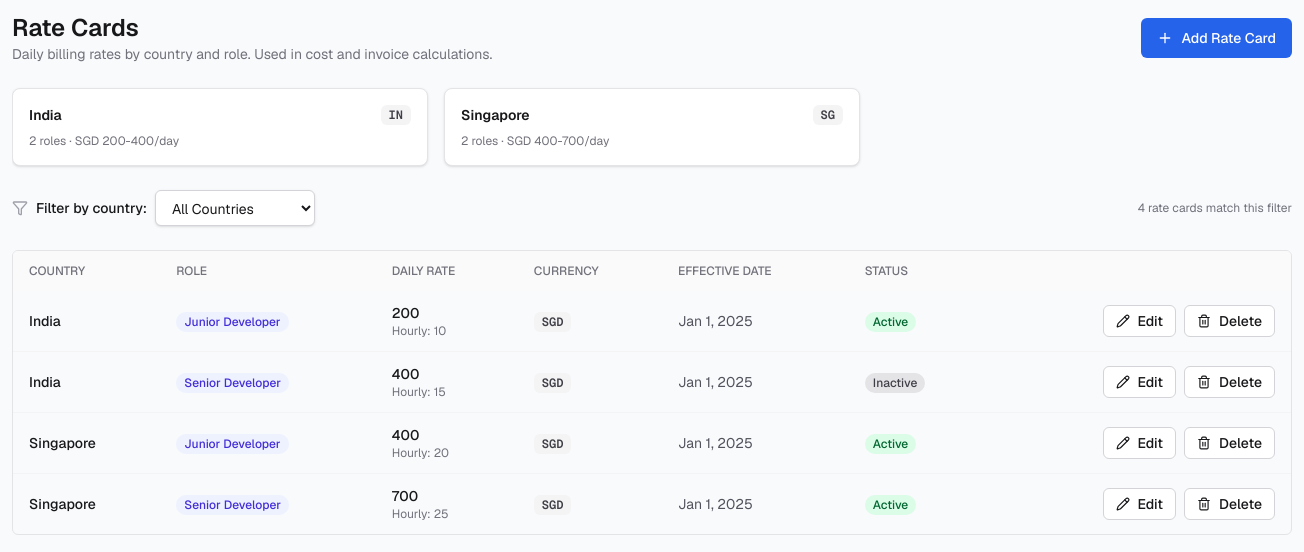
Test: RateCardsTable › filters the table to a single country when its summary card is clicked, and clears on a second click
This screenshot has width=1304, height=552.
Expected: the text "2 roles · SGD 400-700/day" is shown, top-left (461, 133), bottom-right (609, 149)
Click the button "Singapore SG 2 roles · SGD 400-700/day".
click(495, 115)  # box top-left (444, 88), bottom-right (860, 166)
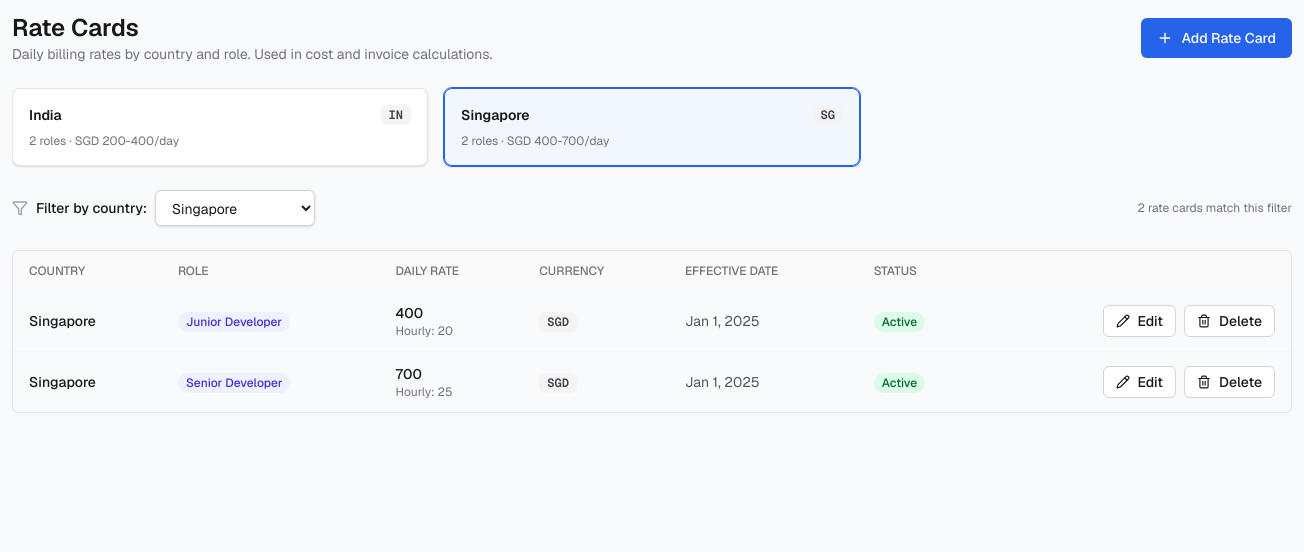
Result: the text "2 rate cards match this filter" is shown at top-left (1138, 200), bottom-right (1292, 216)
Result: the text "Singapore" is shown 2 times at top-left (13, 291), bottom-right (162, 352); top-left (13, 352), bottom-right (162, 412)
Click the button "Singapore SG 2 roles · SGD 400-700/day".
click(495, 115)  # box top-left (444, 88), bottom-right (860, 166)
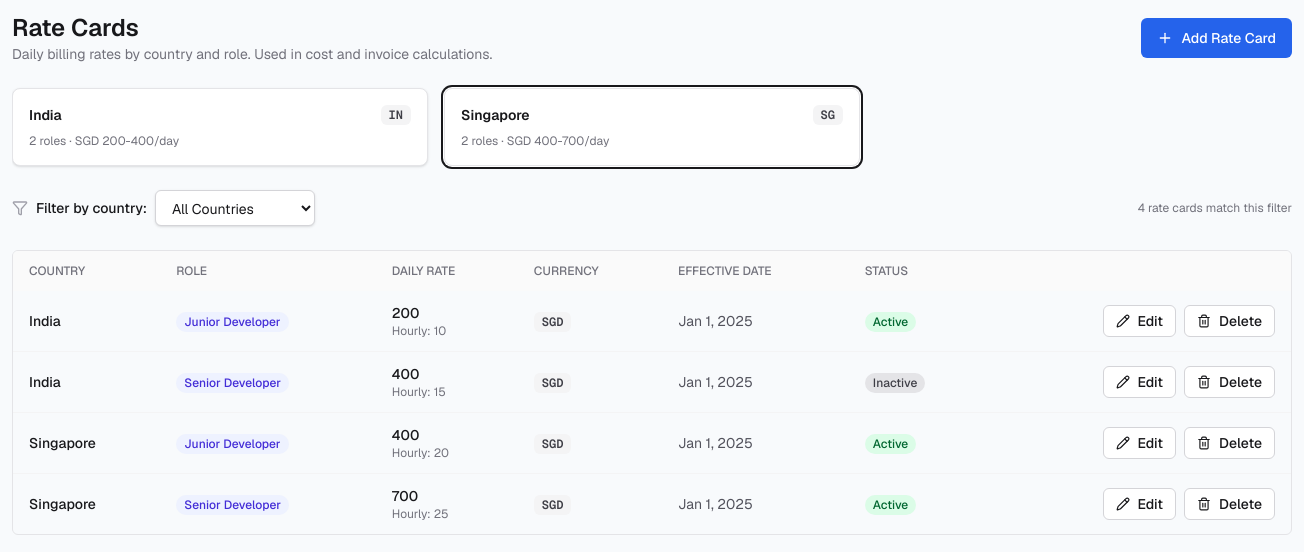
Result: the text "4 rate cards match this filter" is shown at top-left (1138, 200), bottom-right (1292, 216)
